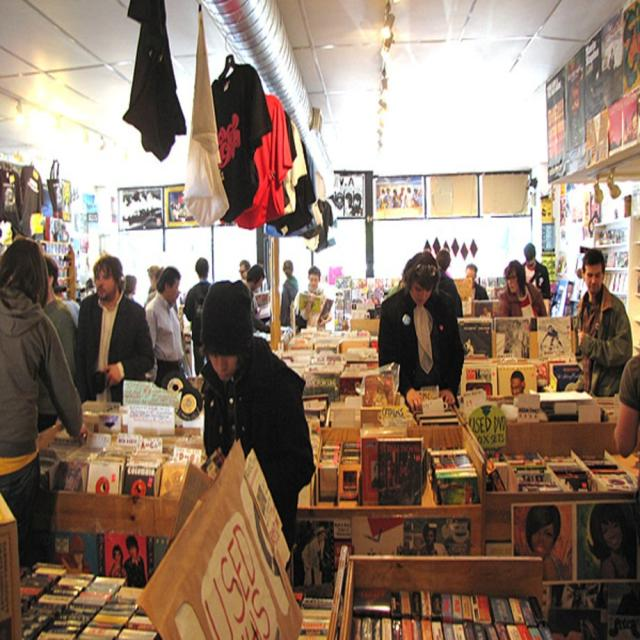body: (197, 277, 317, 581), (514, 501, 638, 639), (376, 250, 465, 414), (73, 252, 156, 406), (572, 247, 634, 398), (30, 251, 80, 436), (34, 250, 79, 435), (144, 265, 186, 394), (181, 256, 213, 379), (604, 0, 640, 95), (494, 258, 550, 317), (122, 187, 197, 229), (401, 516, 470, 558), (295, 264, 336, 334), (613, 352, 640, 458), (104, 528, 147, 594), (293, 519, 330, 590), (239, 263, 272, 337), (379, 445, 419, 506), (520, 241, 552, 317), (434, 247, 465, 318), (55, 242, 79, 323), (375, 180, 424, 218), (122, 268, 162, 302), (279, 259, 299, 326), (507, 317, 534, 363), (566, 81, 586, 142), (465, 262, 490, 302), (539, 323, 566, 359), (40, 219, 71, 250), (587, 71, 606, 119), (506, 364, 529, 398), (338, 188, 364, 218), (562, 275, 574, 321), (475, 299, 497, 321), (462, 332, 479, 360), (238, 255, 250, 284), (257, 280, 269, 295)
